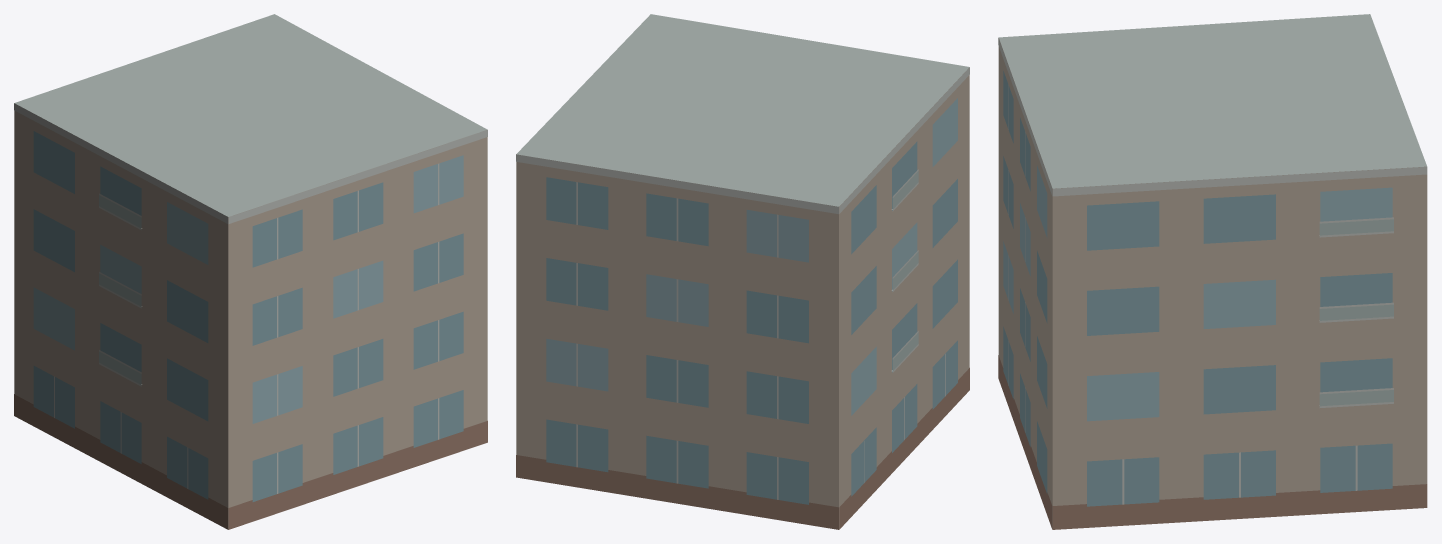
The model's file is survey-upis-32576330.glb.
3 renders of one model, left to right at view 1: azimuth 30°, elevation 25°; view 2: azimuth 150°, elevation 25°; view 3: azimuth 270°, elevation 25°, orthographic. The views are drawn at different scales.
Visible parts, largest first — view 1: survey-upis-32576330.tmp; view 2: survey-upis-32576330.tmp; view 3: survey-upis-32576330.tmp.
Boxes of the visible parts, x1,y1,x2,y2 form: survey-upis-32576330.tmp: (14, 14, 487, 529); survey-upis-32576330.tmp: (516, 14, 969, 529); survey-upis-32576330.tmp: (998, 14, 1427, 529).
Bounding box in the file's own units: 11.59 × 10.55 × 12.02.
